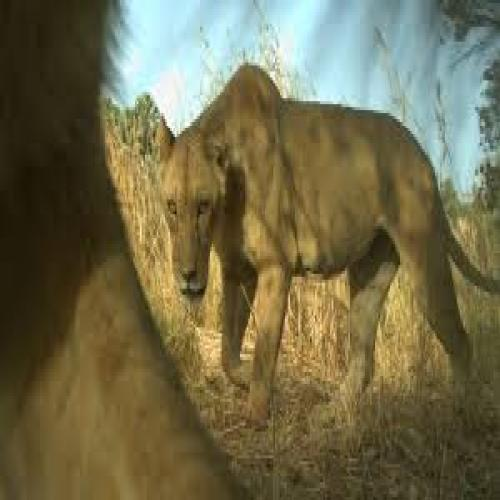lion-endangered: (156, 63, 500, 434), (2, 0, 250, 500)
